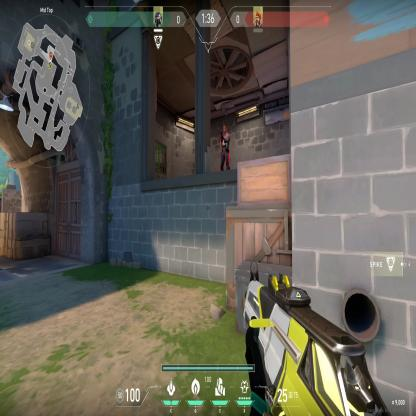enemy: (217, 122, 231, 173)
